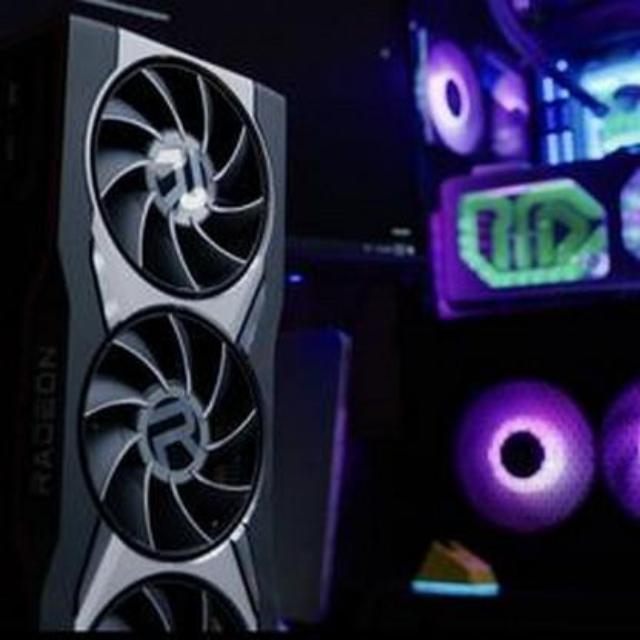GPU: (4, 0, 292, 640)
